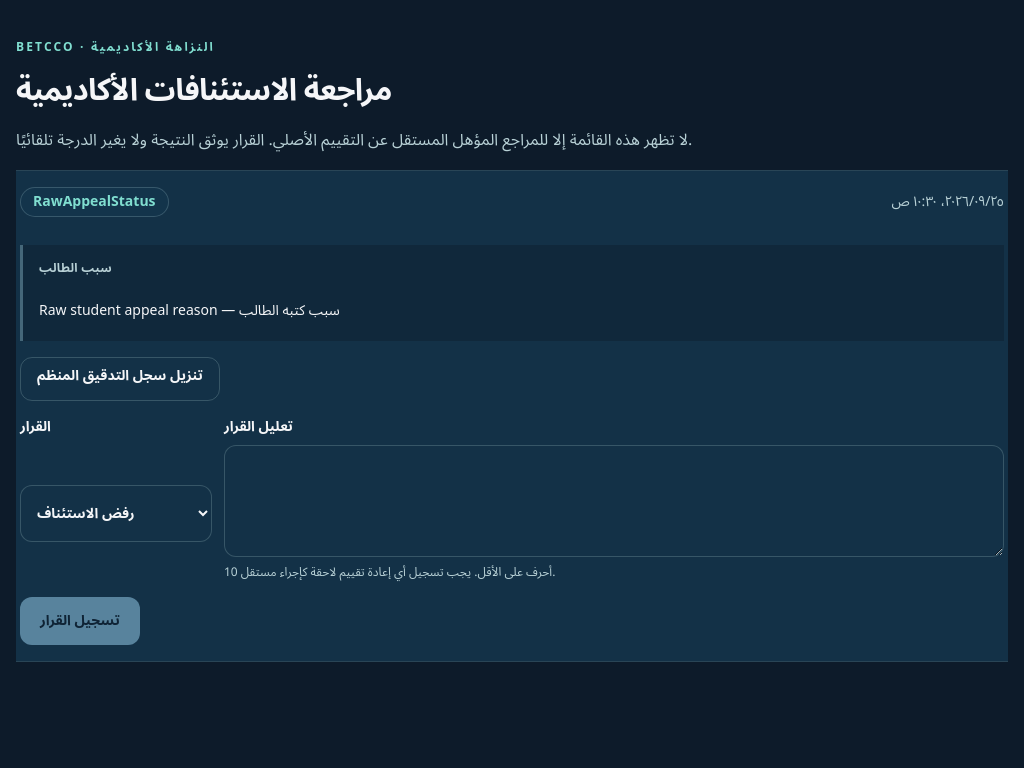
Test: Appeals ar — MOCKED UI-CONTRACT EVIDENCE › keeps DOM/minimum/pending guards, exact Rejected review payload, queue-only invalidation and retained draft
This screenshot has width=1024, height=768.
Expected: the button "تسجيل القرار" is disabled, [20,597,140,645]
In the text box labelled "تعليل القرار": (614, 501) [224,445,1004,557], type "  123456789  "
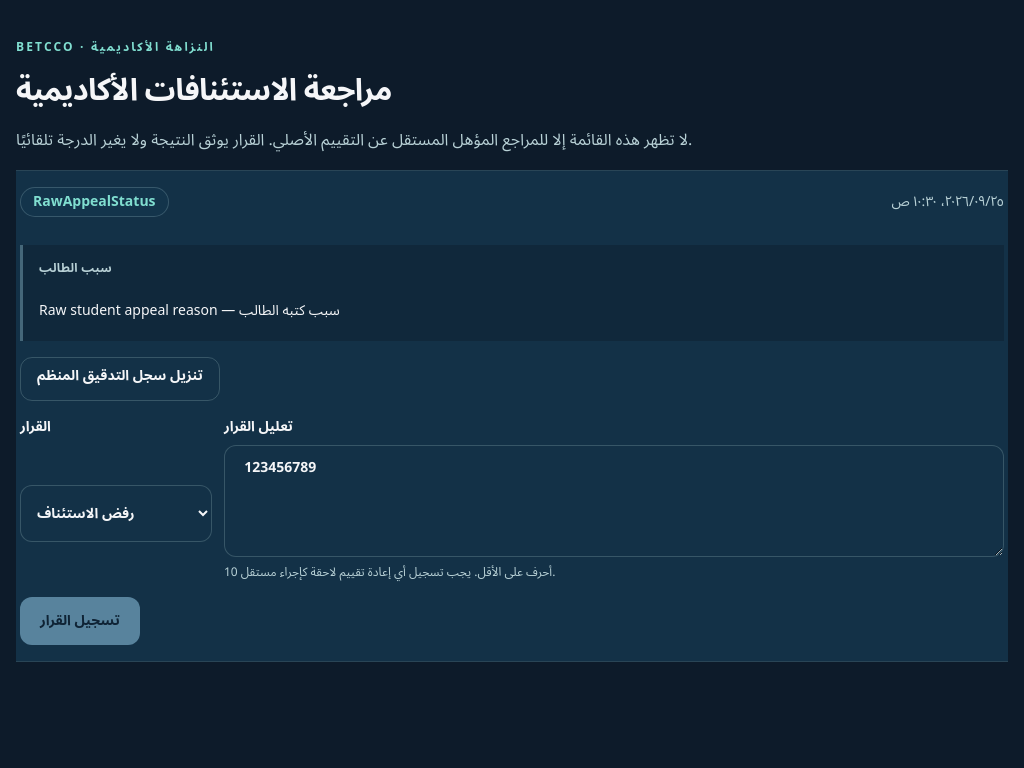
Expected: the button "تسجيل القرار" is disabled, [20,597,140,645]
Replace the text in the text box labelled "تعليل القرار" with "  1234567890  ": (614, 501) [224,445,1004,557]
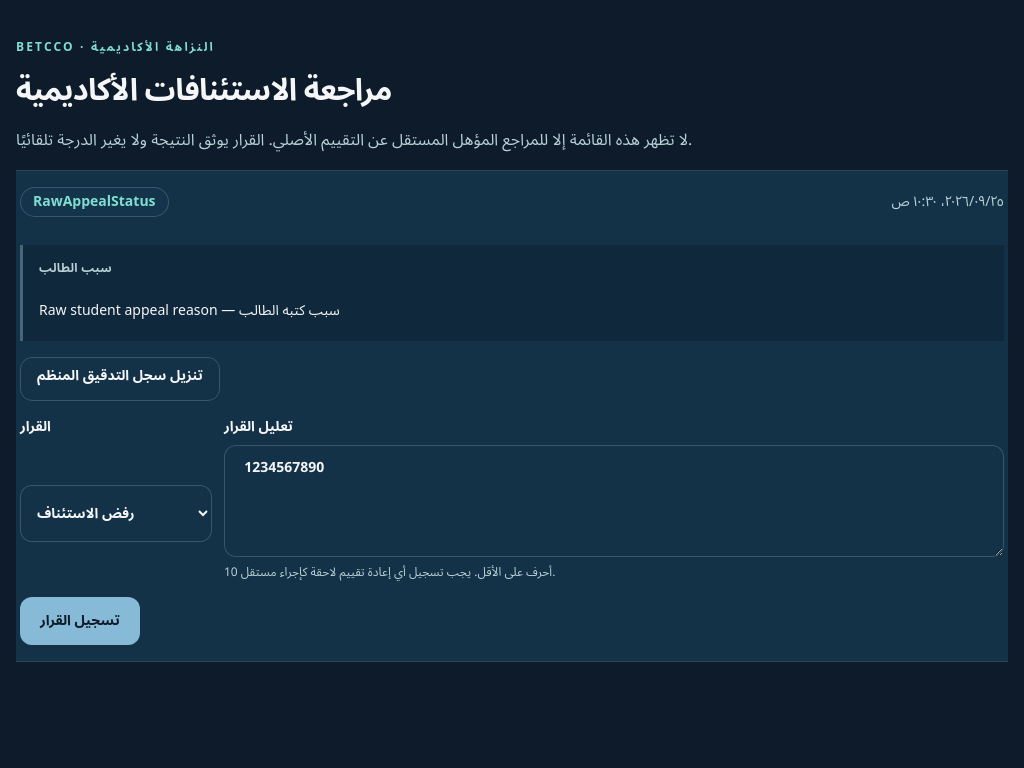
Select "رفض الاستئناف" in the dropdown labelled "القرار": (116, 513) [20,485,212,542]
Now the button "تسجيل القرار" is enabled
Click the button "تسجيل القرار": click(80, 621) [20,597,140,645]
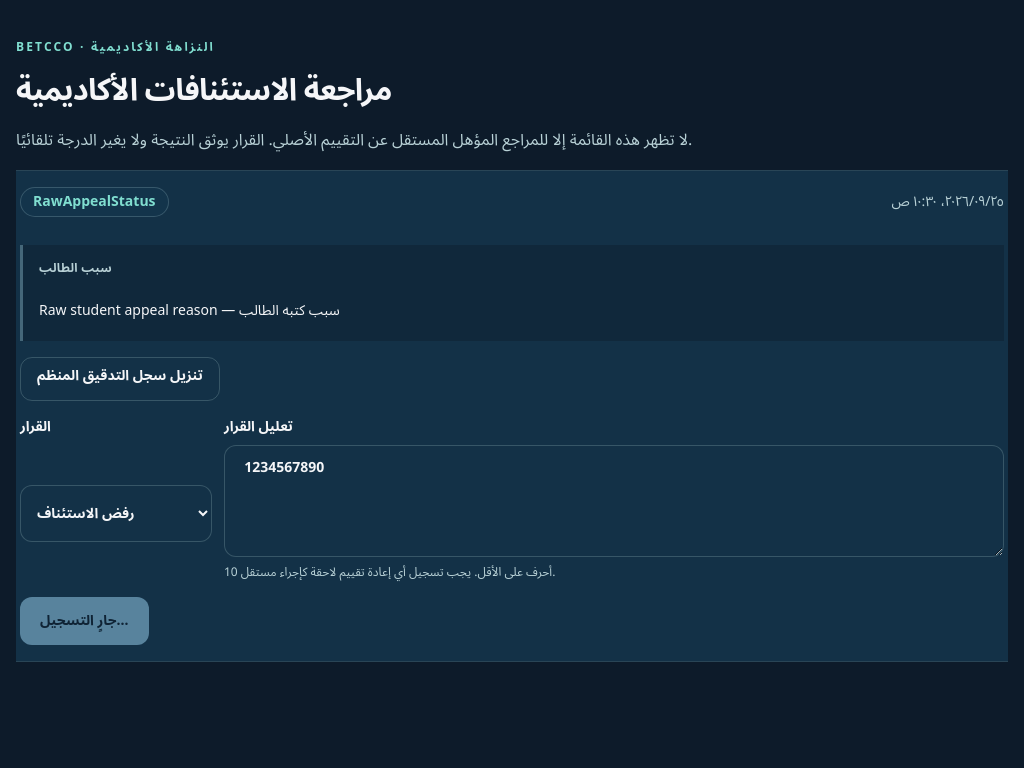
Now the button "جارٍ التسجيل…" is disabled, box [20,597,148,645]
